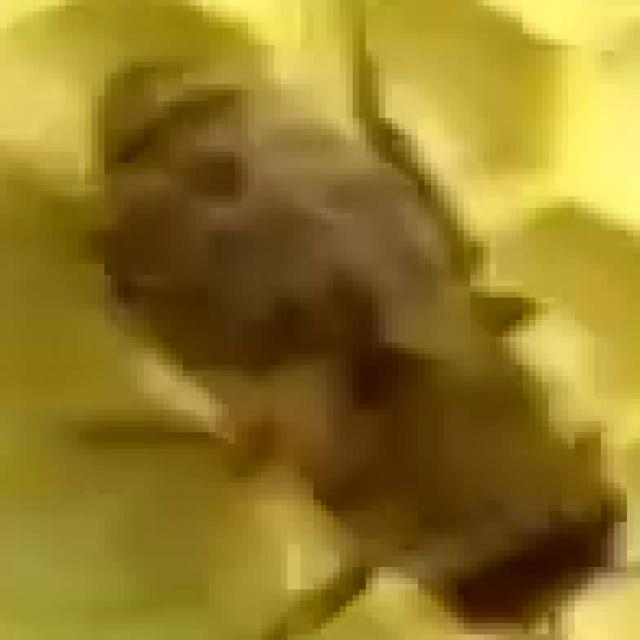honeybee: (46, 35, 612, 584)
